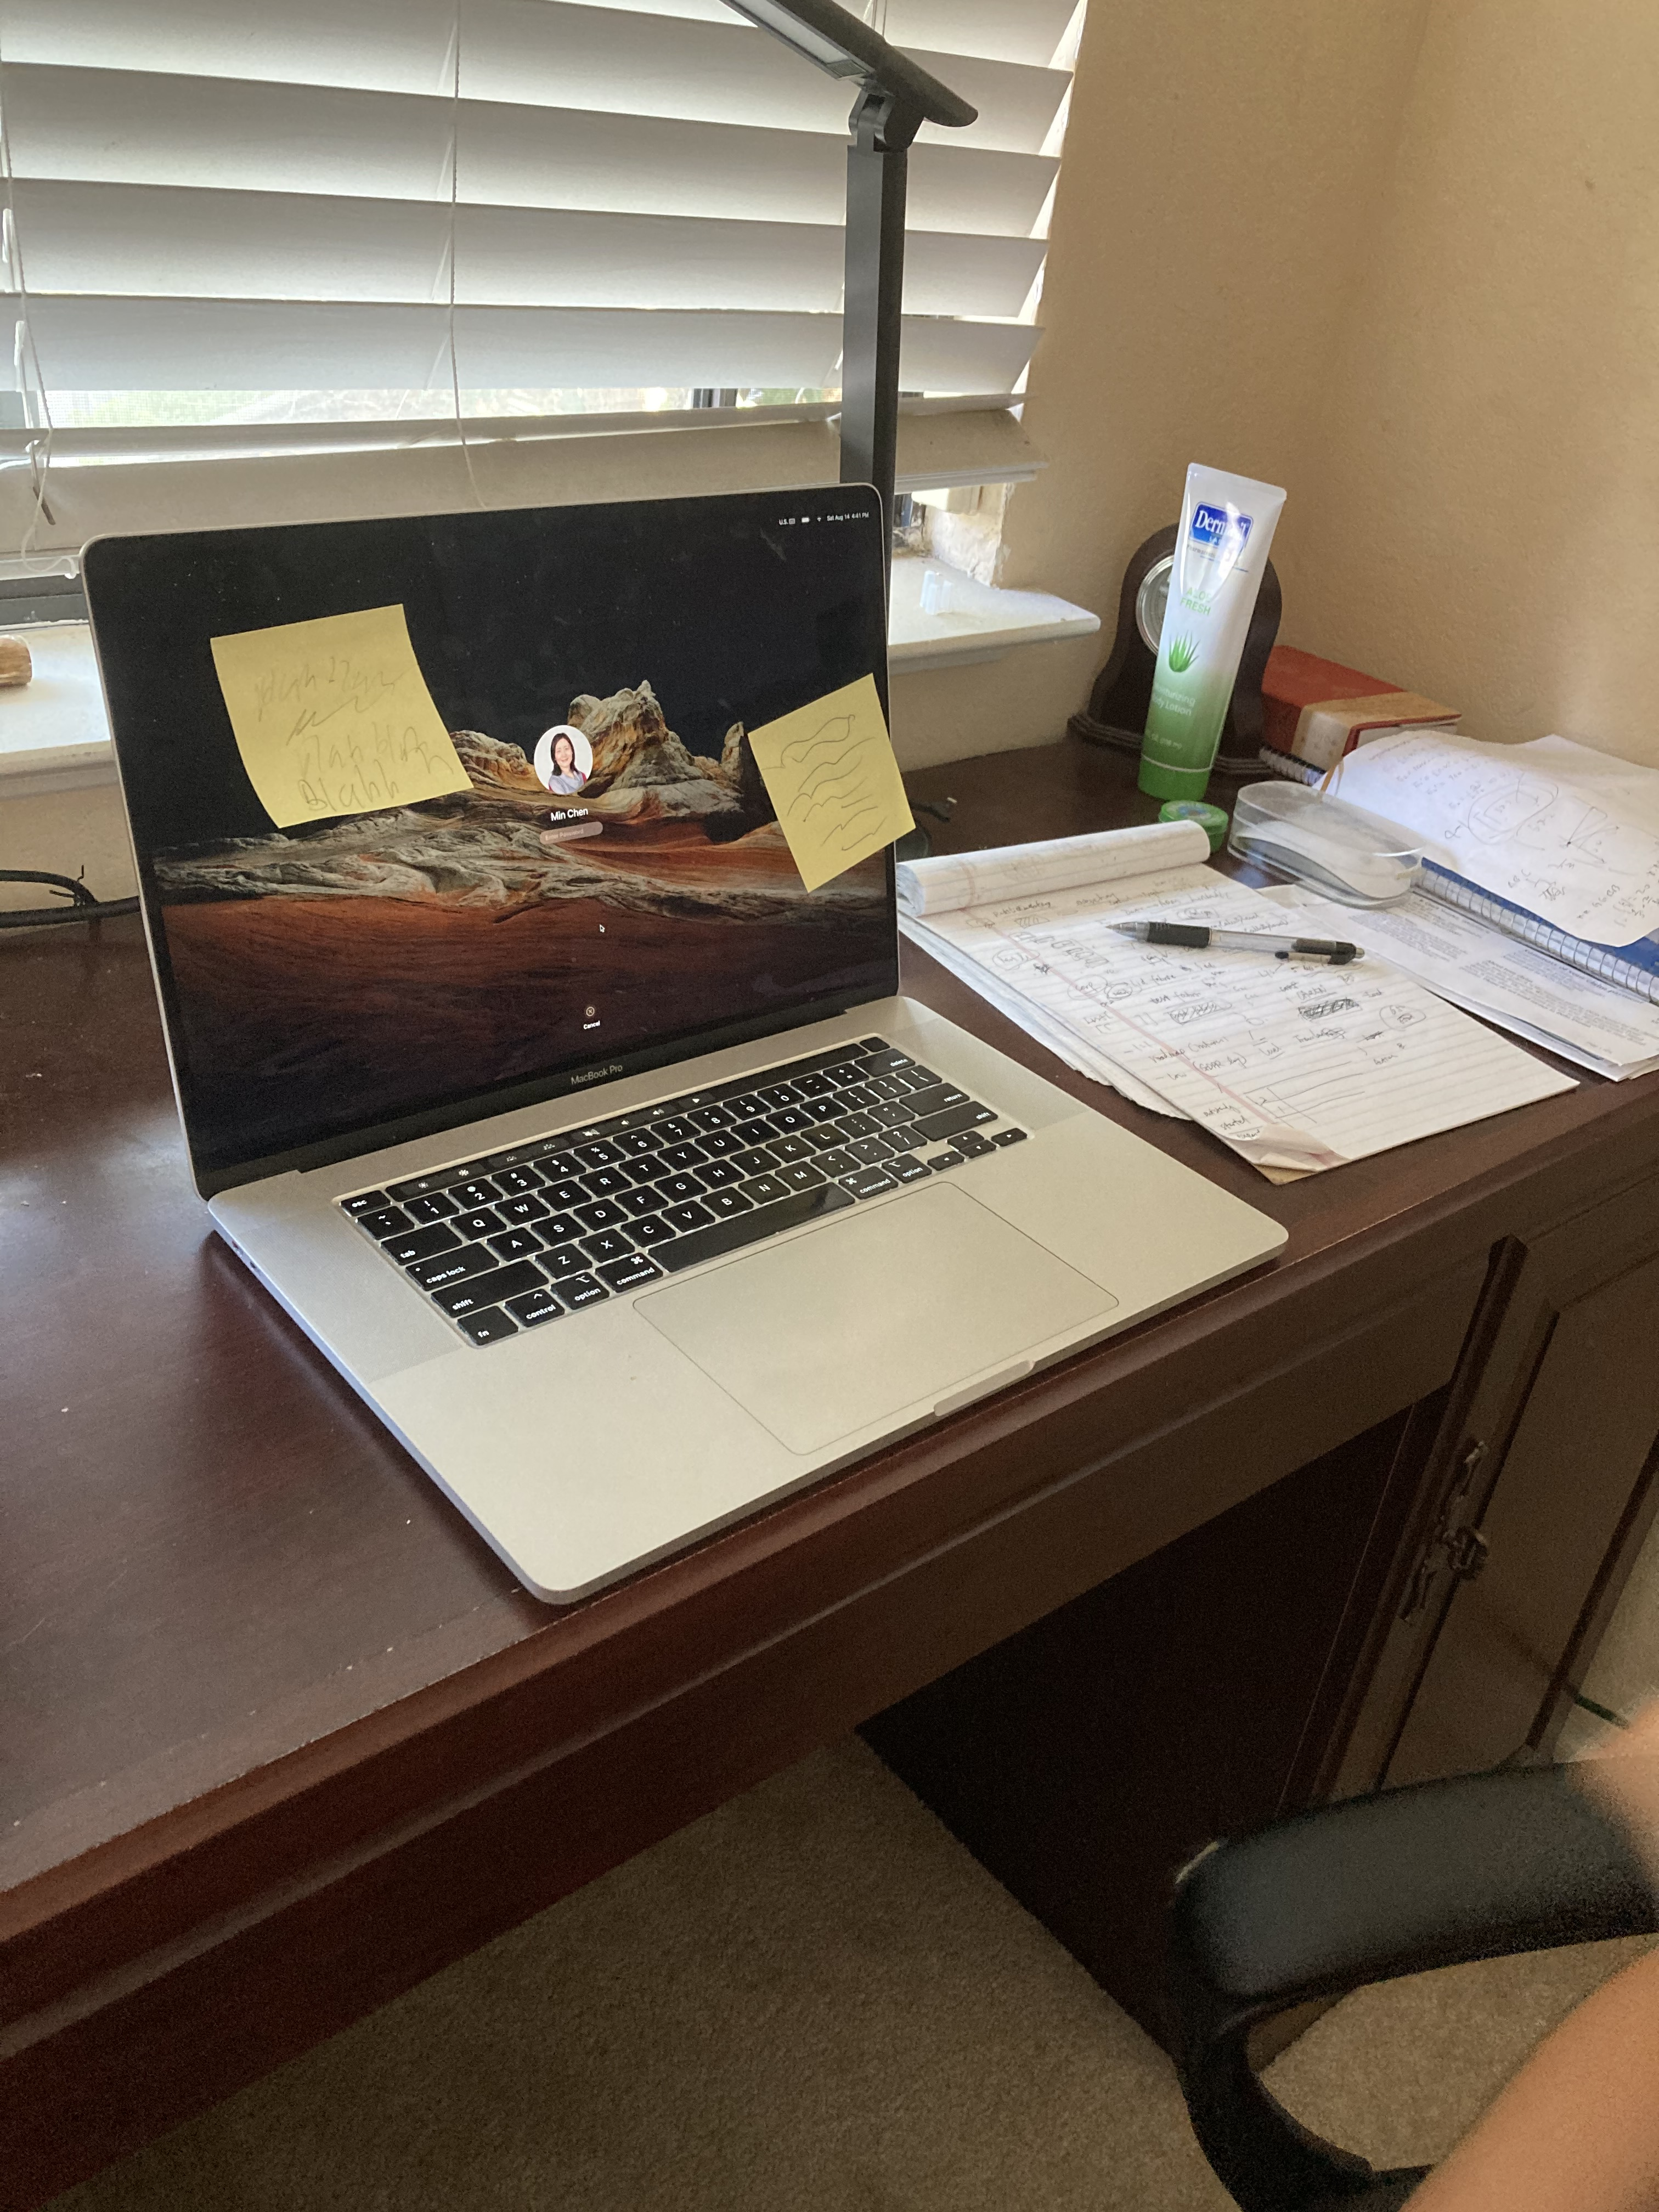Note: (213, 594, 474, 848), (737, 676, 929, 892)
